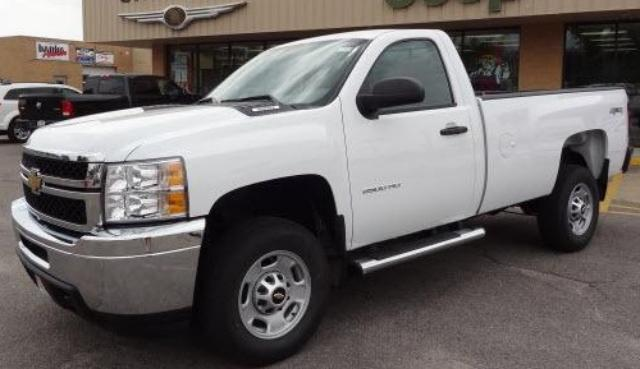pickup-truck: (10, 27, 631, 364)
